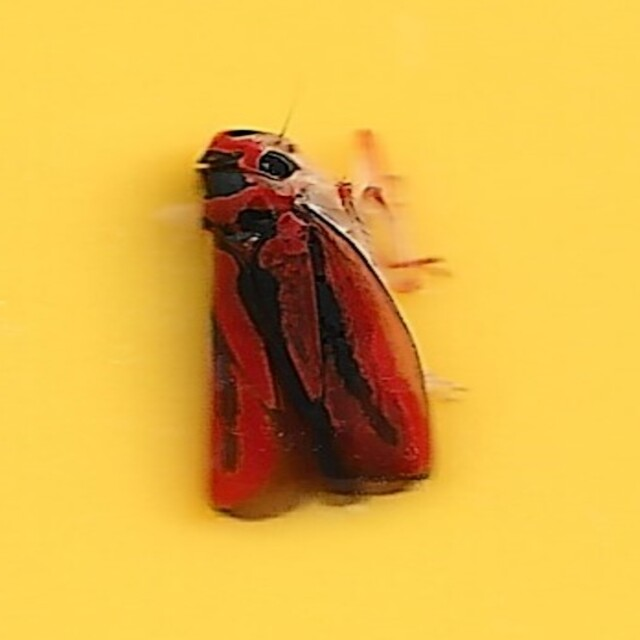Hemiptera: (184, 119, 456, 521)
